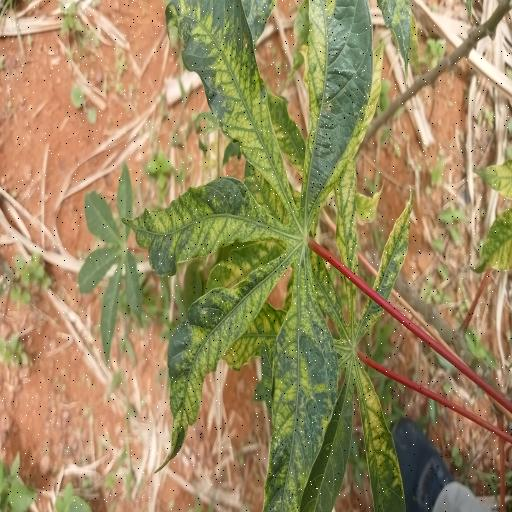Cassava_Mosaic: (119, 0, 377, 512)
